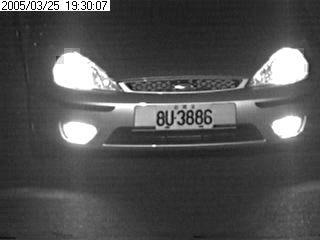plate: (152, 105, 215, 130)
